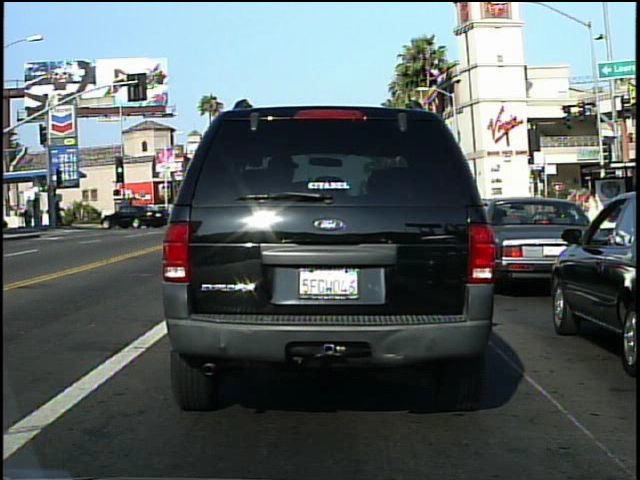person: (583, 187, 605, 244)
